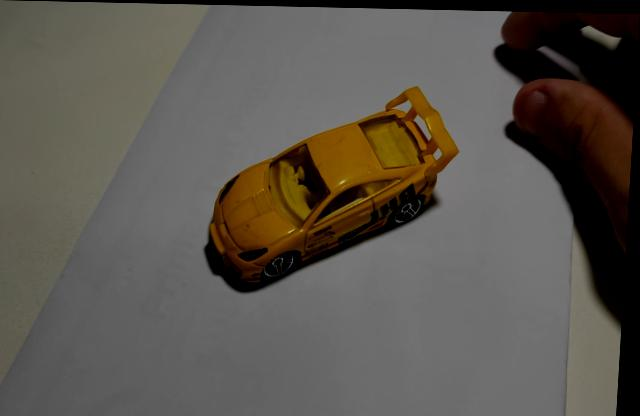07_RHLTURBO: (207, 86, 460, 291)
